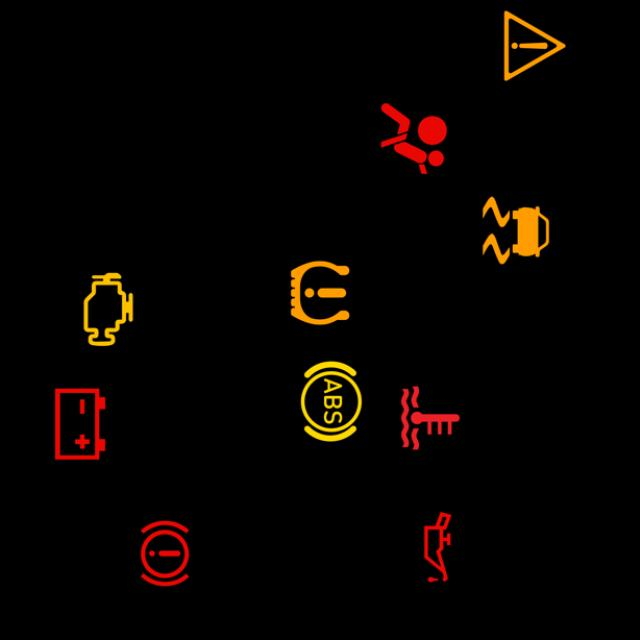Anti Lock Braking System: (286, 358, 374, 446)
Braking System Issue: (120, 510, 208, 598)
Charging System Issue: (35, 380, 123, 468)
Check Engine: (64, 266, 152, 354)
Electronic Stability Problem -ESP-: (471, 186, 559, 274)
Engine Overheating Warning Light: (386, 374, 474, 462)
Low Engine Oil Warning Light: (392, 503, 480, 591)
Low Tire Pressure Warning Light: (275, 249, 363, 337)
Master warning light: (490, 2, 578, 90)
SRS-Airbag: (369, 94, 457, 182)
